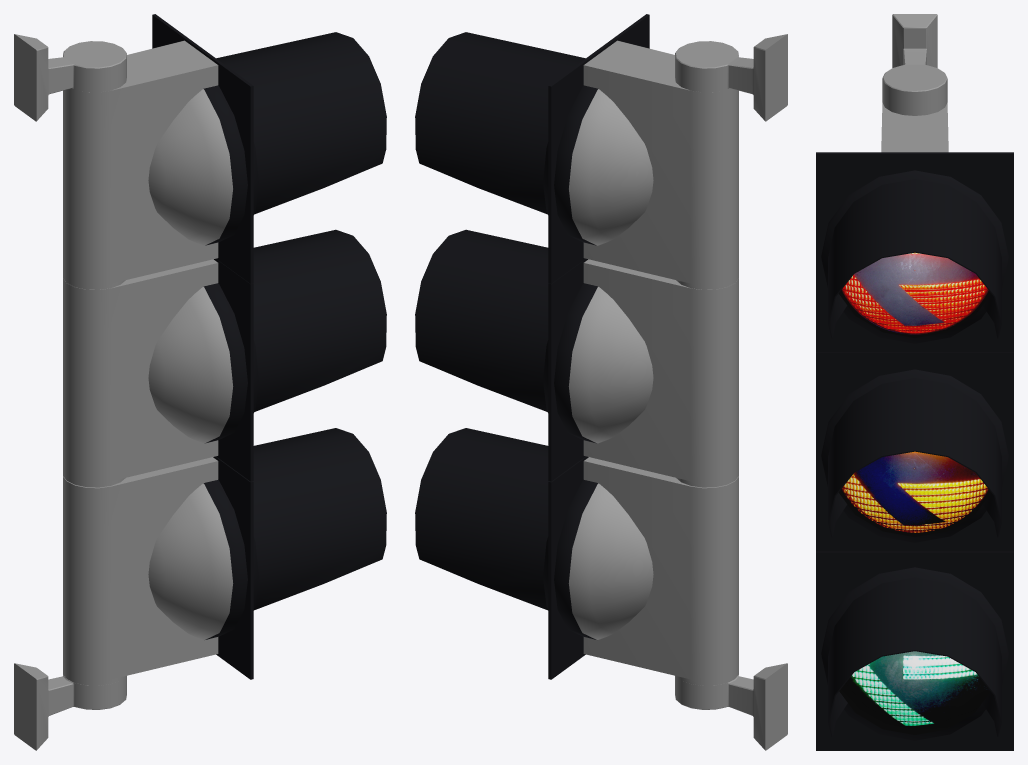
File: Ampel_Abbieger_links_Mast.glb
3 views of the same model, side by side, from view 1: azimuth 30°, elevation 25°; view 2: azimuth 150°, elevation 25°; view 3: azimuth 270°, elevation 25° (orthographic).
Parts seen in each view (by area): view 1: Cube.004, Cube.005, Cube.003, Sonnenblende.002, Sonnenblende, Sonnenblende.001, BezierCurve.019, BezierCurve.018, BezierCurve.020, Masthalterung, Blende.002, Masthalterung.001 (+2 smaller); view 2: Cube.004, Cube.005, Cube.003, Sonnenblende.002, Sonnenblende, Sonnenblende.001, BezierCurve.019, BezierCurve.018, BezierCurve.020, Masthalterung, Blende.002, Masthalterung.001 (+2 smaller); view 3: Blende.002, Blende.001, Blende, Sonnenblende, Sonnenblende.002, Sonnenblende.001, BezierCurve.018, BezierCurve.020, BezierCurve.019, Masthalterung, Cube.004.
Part boxes in pixels (box(x1,y1,x2,y2)): Cube.004: box(63, 40, 218, 289); Cube.005: box(63, 457, 218, 685); Cube.003: box(63, 259, 218, 487); Sonnenblende.002: box(216, 32, 386, 214); Sonnenblende: box(253, 428, 386, 610); Sonnenblende.001: box(253, 229, 386, 411); BezierCurve.019: box(148, 283, 258, 443); BezierCurve.018: box(148, 480, 258, 640); BezierCurve.020: box(148, 85, 258, 245); Masthalterung: box(14, 34, 126, 121); Blende.002: box(152, 14, 253, 283); Masthalterung.001: box(14, 663, 126, 750); Cube.004: box(583, 40, 738, 289); Cube.005: box(583, 457, 738, 685); Cube.003: box(583, 259, 738, 487); Sonnenblende.002: box(415, 32, 585, 214); Sonnenblende: box(415, 428, 548, 610); Sonnenblende.001: box(415, 229, 548, 411); BezierCurve.019: box(543, 283, 653, 443); BezierCurve.018: box(543, 480, 653, 640); BezierCurve.020: box(543, 85, 653, 245); Masthalterung: box(675, 34, 787, 121); Blende.002: box(548, 14, 649, 283); Masthalterung.001: box(675, 663, 787, 750); Blende.002: box(816, 152, 1013, 352); Blende.001: box(816, 352, 1013, 551); Blende: box(816, 551, 1013, 750); Sonnenblende: box(828, 577, 1001, 736); Sonnenblende.002: box(828, 179, 1001, 338); Sonnenblende.001: box(828, 378, 1001, 537); BezierCurve.018: box(821, 567, 1008, 740); BezierCurve.020: box(821, 170, 1008, 343); BezierCurve.019: box(821, 369, 1008, 542); Masthalterung: box(882, 14, 947, 115); Cube.004: box(881, 102, 948, 152).
Size of the model in its own units: 0.4823 by 0.9853 by 0.2502.
Materials: 5 (5 with a texture image).
